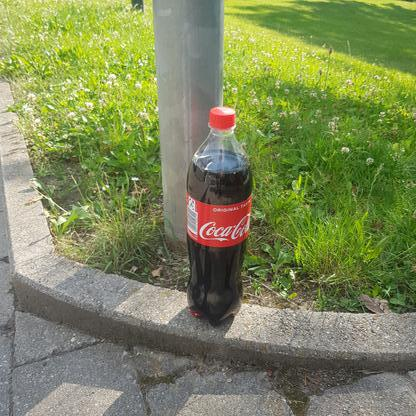coca-cola: (184, 105, 254, 329)
